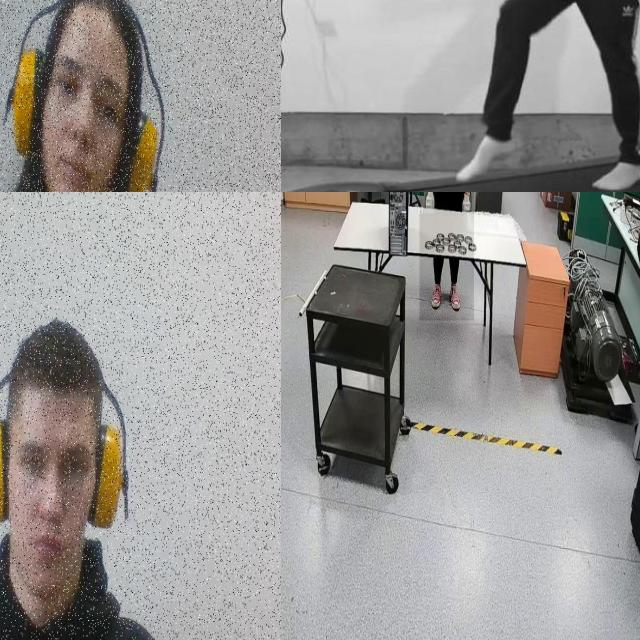Ear-protection: (0, 324, 140, 624), (0, 0, 190, 192)
hand_glove: (421, 192, 434, 213), (458, 192, 471, 212)
person: (454, 0, 640, 190), (419, 192, 474, 321)
shoes: (446, 283, 464, 313), (428, 282, 444, 310)
